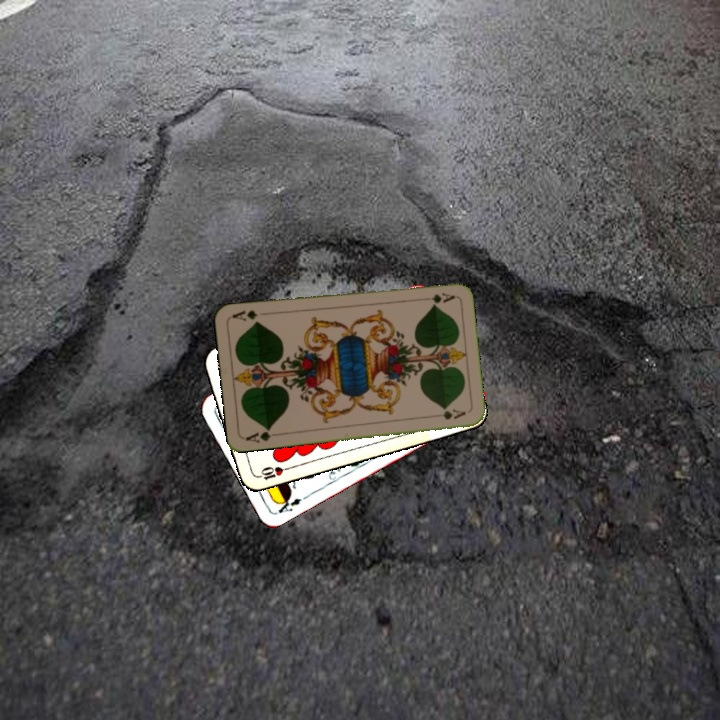EA: (273, 492, 304, 516)
GA: (242, 424, 282, 445), (416, 288, 457, 305)
H10: (252, 462, 292, 483)
